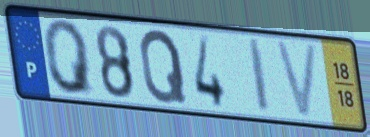4: (191, 32, 230, 111)
8: (93, 23, 137, 101)
I: (246, 36, 273, 117)
Q: (41, 18, 98, 98), (137, 27, 190, 106)
V: (272, 38, 321, 121)
